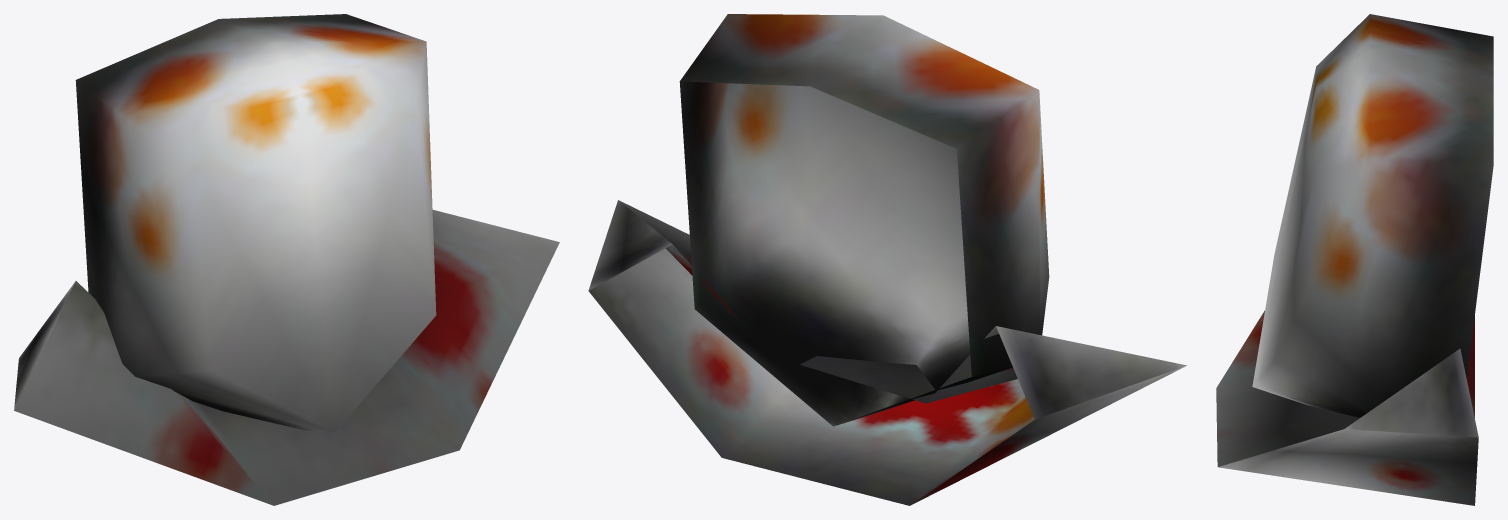
The model's file is Zombie_Nurse_H_01_026c6134__Zombie_Nurse01_Green_75ccded5_c1f257.obj.
3 views of the same model, side by side, from view 1: azimuth 30°, elevation 25°; view 2: azimuth 150°, elevation 25°; view 3: azimuth 270°, elevation 25° (orthographic). The views are drawn at different scales.
Bounding box in the file's own units: 0.78 × 0.5679 × 0.3504.
1 material, 1 textured.
